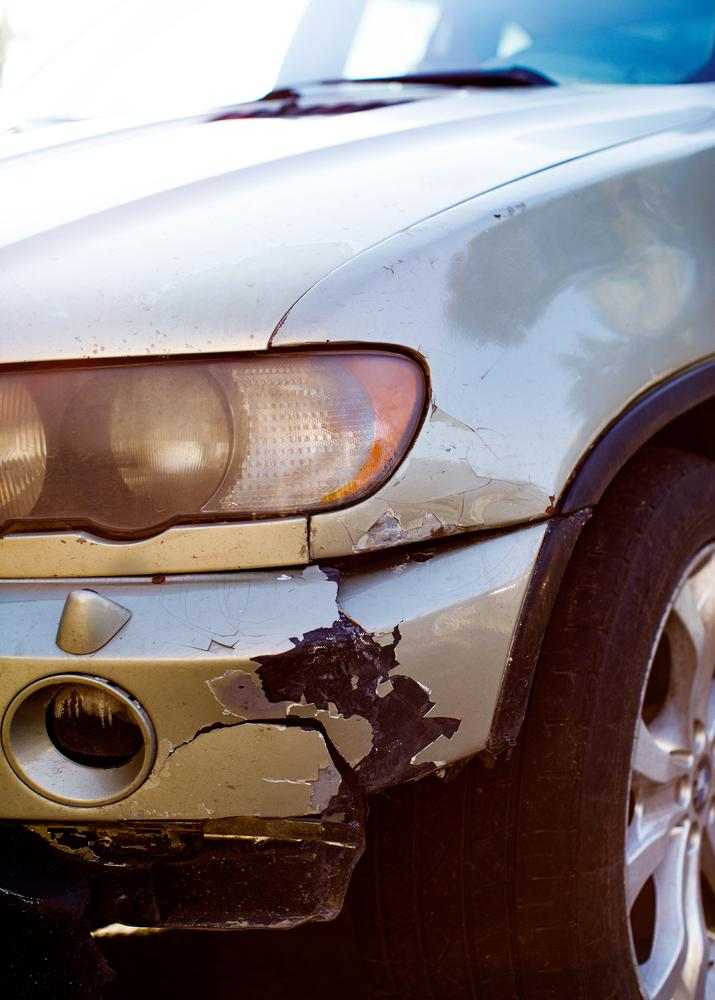crack: (158, 717, 354, 778), (314, 563, 342, 618)
dent: (583, 170, 699, 333)
scratch: (215, 618, 462, 783)
